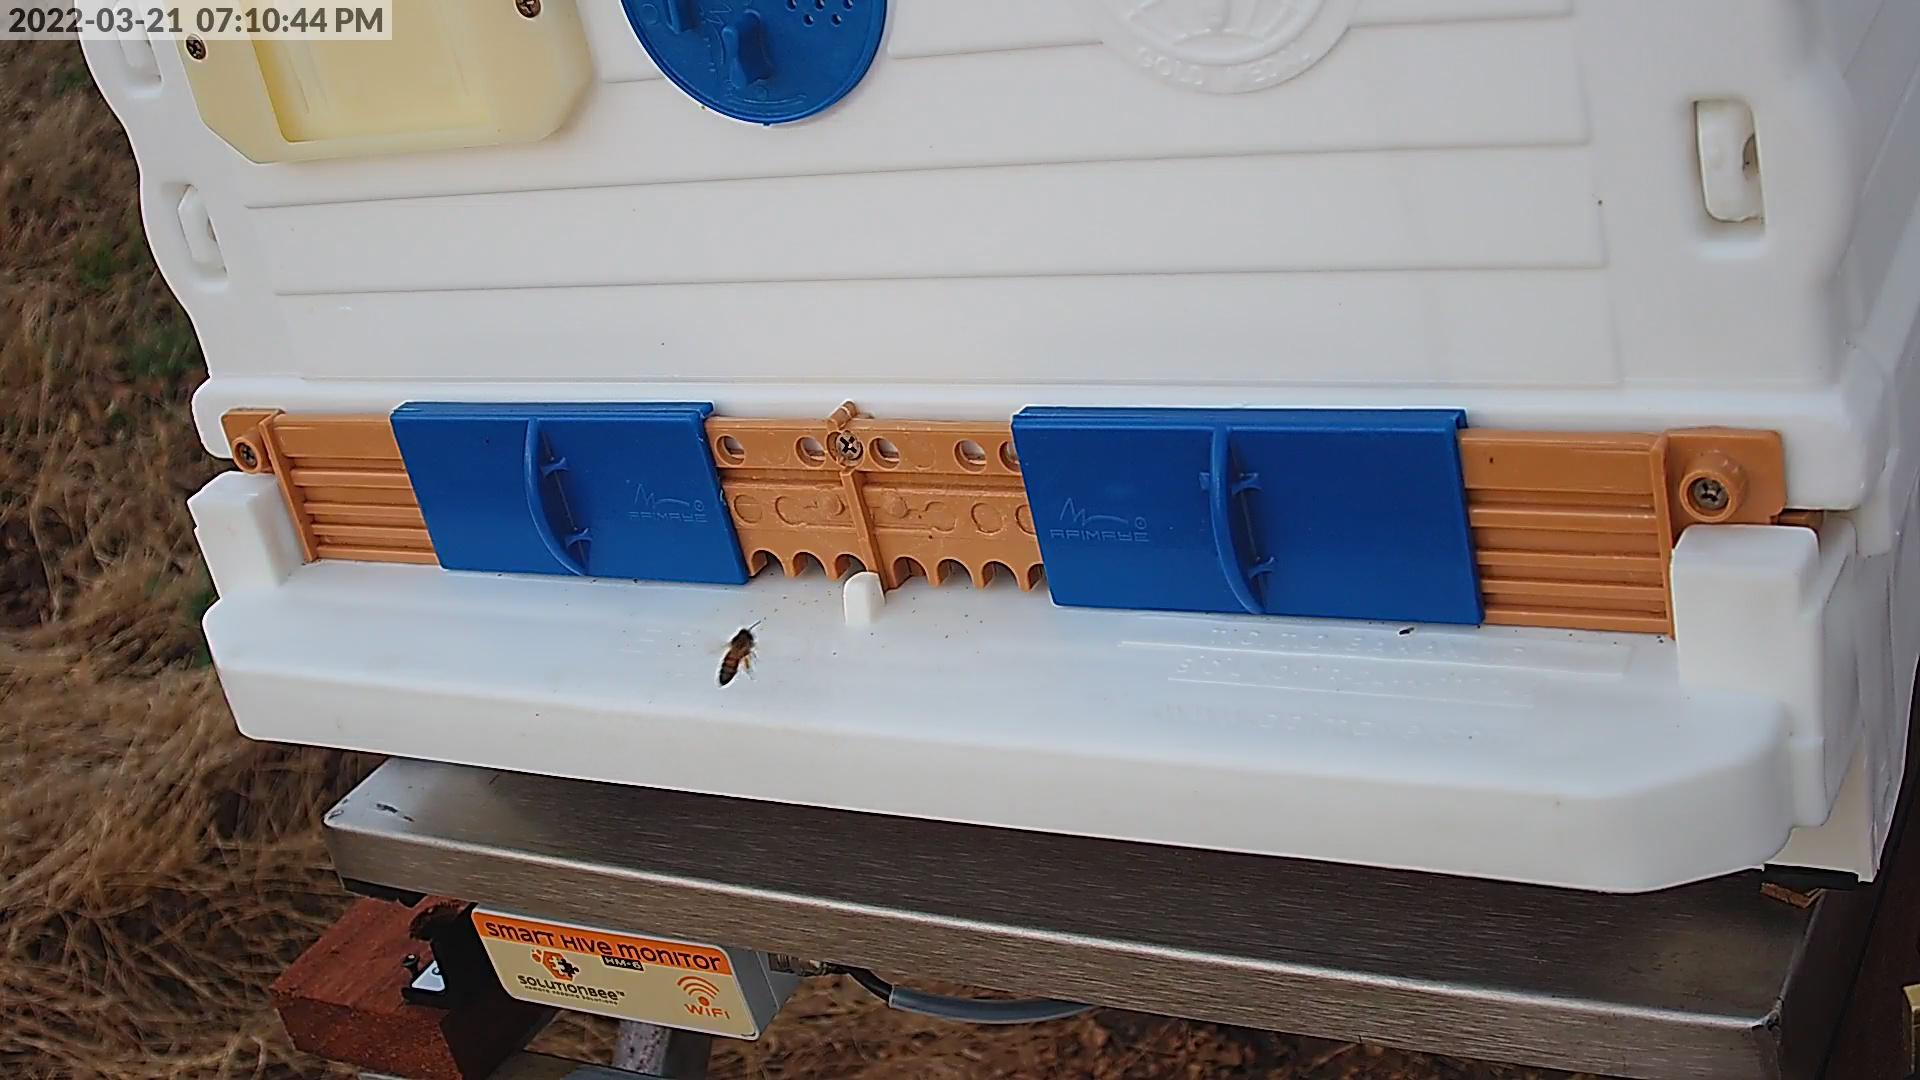pollenbee: (720, 629, 757, 688)
